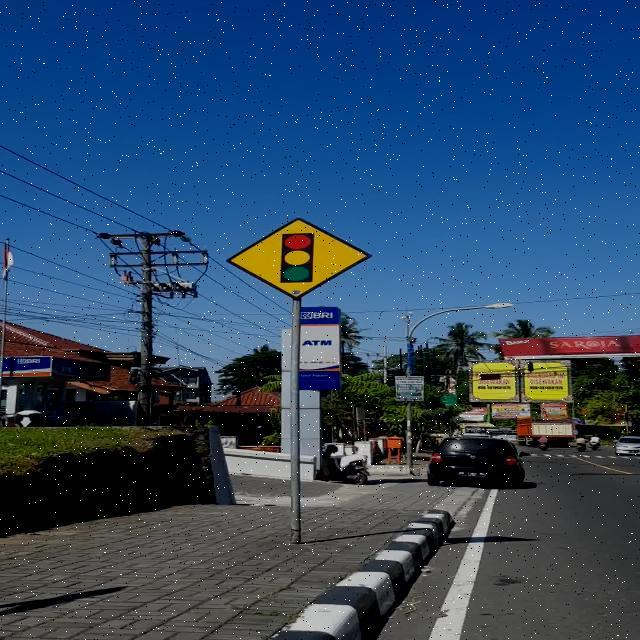Lampu Lalu Lintas: (226, 218, 373, 300)
